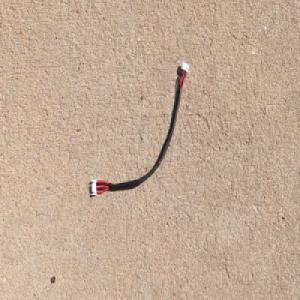Wire: (90, 59, 190, 197)
